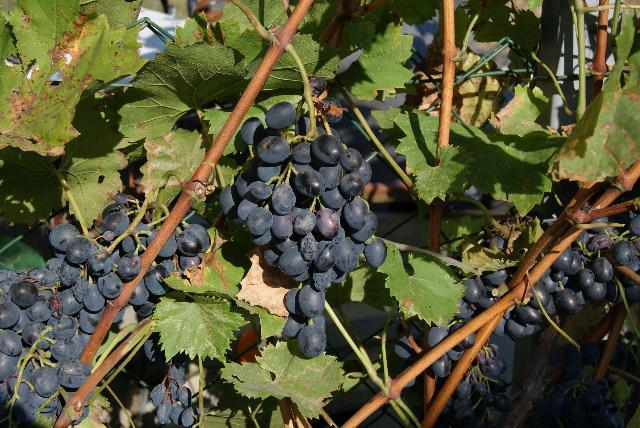grapes: (220, 102, 388, 358), (0, 202, 158, 424)
